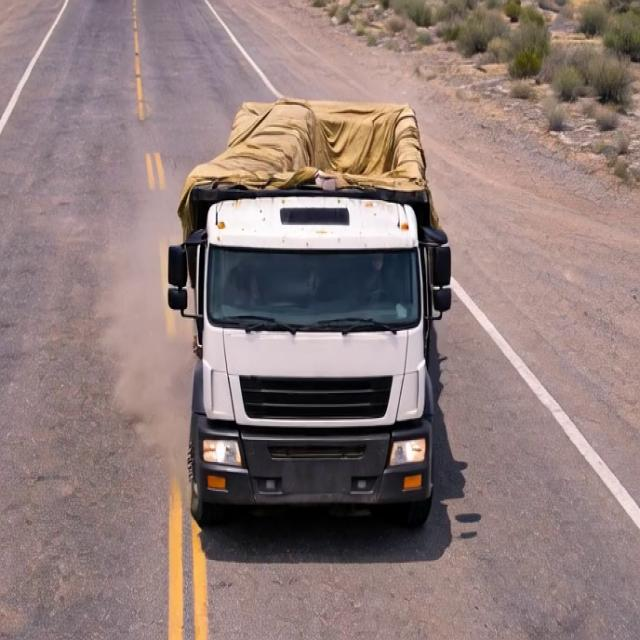trailer: (183, 86, 429, 196)
truck: (153, 68, 486, 563)
